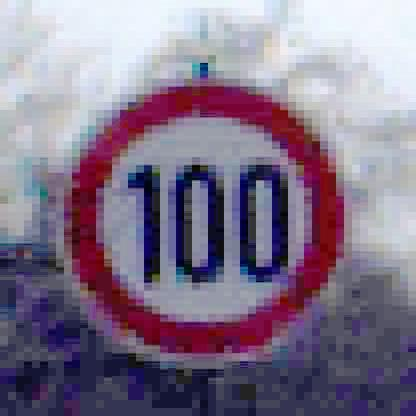Speed Limit -100-: (57, 76, 349, 362)
